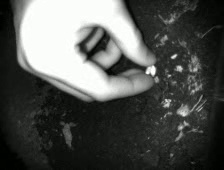corn: (149, 63, 160, 81), (143, 63, 152, 79)
